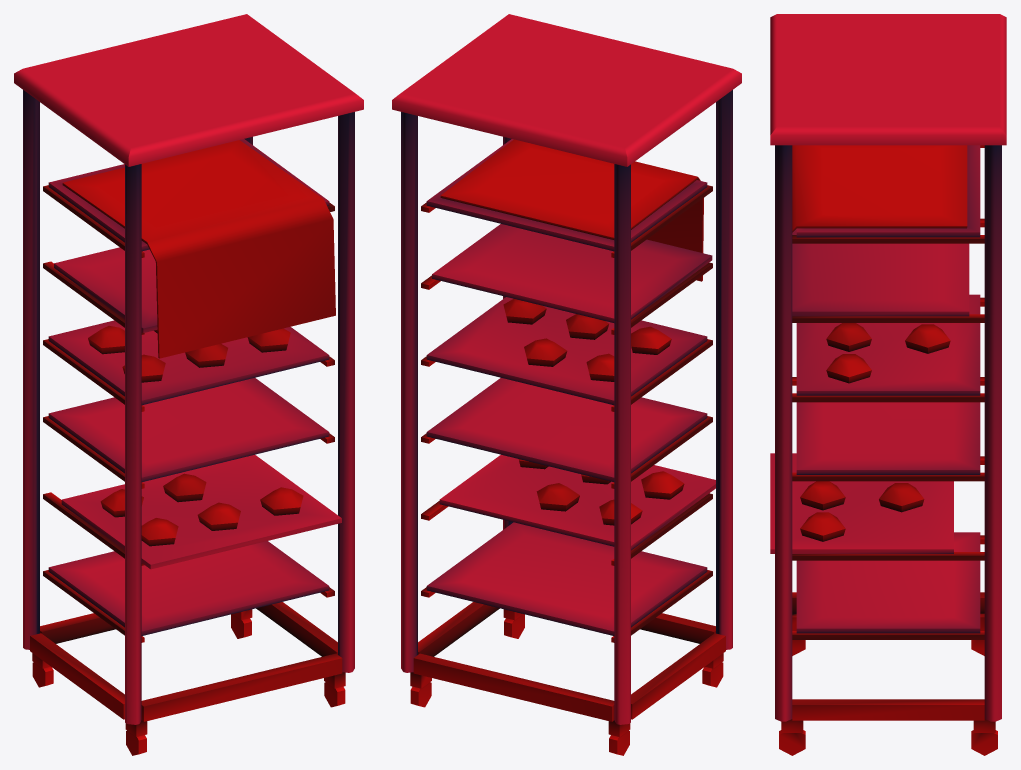
File: CI_Bakery_ProofingTrolley.glb
3 renders of one model, left to right at view 1: azimuth 30°, elevation 25°; view 2: azimuth 150°, elevation 25°; view 3: azimuth 270°, elevation 25°, orthographic. The views are drawn at different scales.
Visible parts, largest first — view 1: CI_Bakery_ProofingTrolley; view 2: CI_Bakery_ProofingTrolley; view 3: CI_Bakery_ProofingTrolley.
Boxes of the visible parts, <box> form: CI_Bakery_ProofingTrolley: <box>14,14,363,755</box>; CI_Bakery_ProofingTrolley: <box>392,14,741,755</box>; CI_Bakery_ProofingTrolley: <box>770,14,1006,755</box>.
Size of the model in its own units: 0.64 by 1.6 by 0.54.
